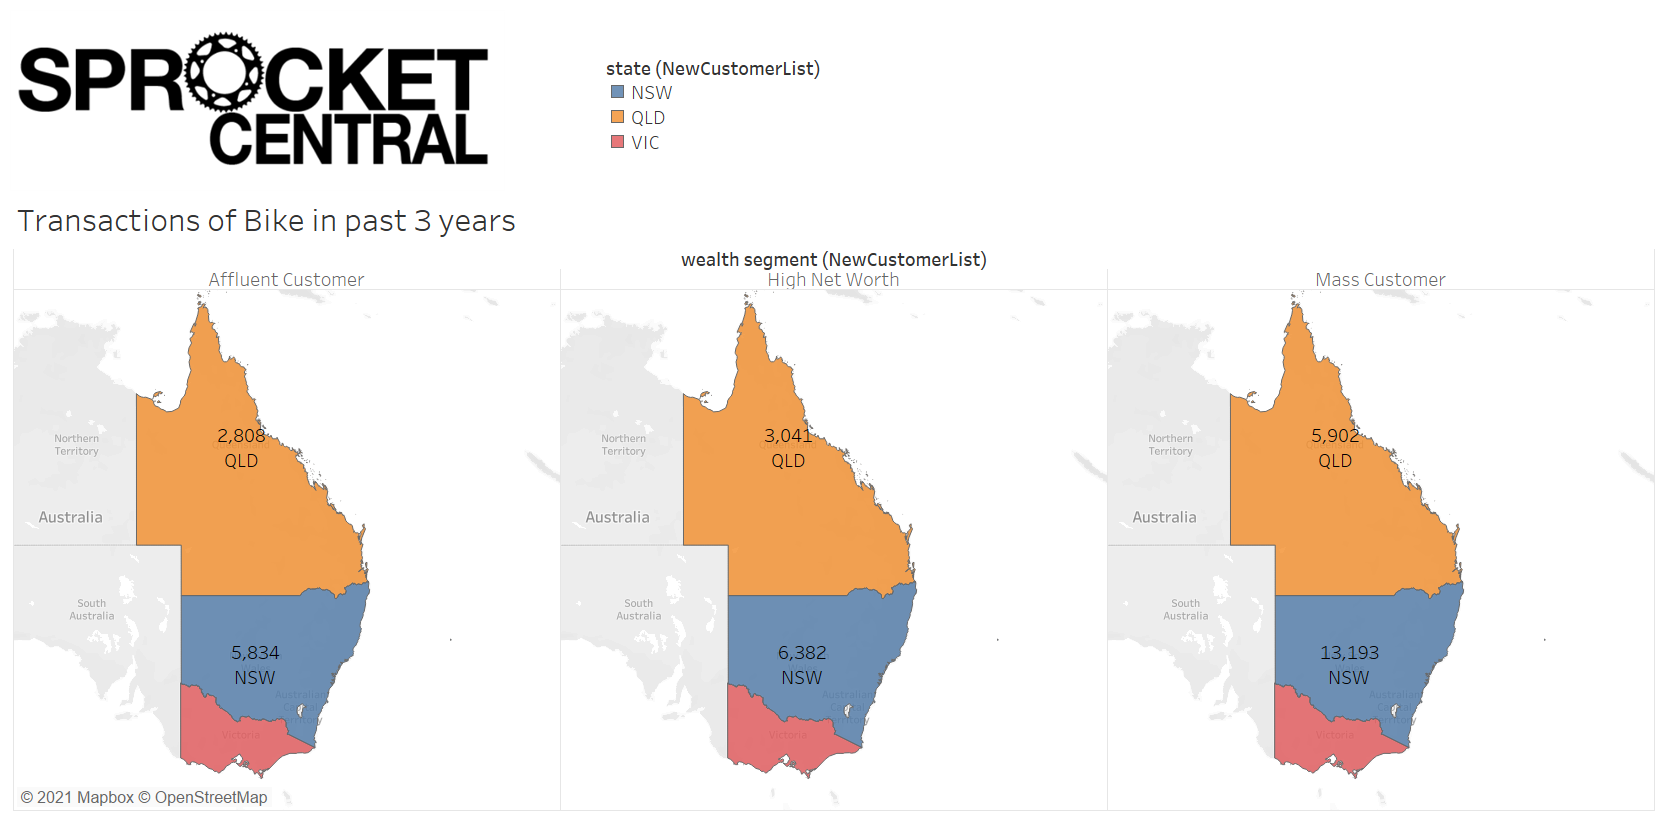

The page's visual inventory and layout, read from the dashboard file:
{"tool":"tableau","page":{"name":"Dashboard 2","canvas":[1000,1000],"units":"permille","ordinal":1},"visuals":[{"type":"image","param":"D:/College/Internship/Projects/KPMG/Capture.PNG","box":[6,12.5,481,221.2]},{"type":"legend","title":"Sheet 3","param":"[federated.12vq8vn1b4vt7y10dxqfv1u105mu].[none:state (NewCustomerList):nk]","box":[363.6,64.8,325.7,125.9]},{"type":"worksheet","title":"Sheet 3","mark":"Multipolygon","cols":["wealth_segment (NewCustomerList)"],"box":[7.8,234.7,986.8,756.7]}]}

Visuals, with their boxes on the dashboard's canvas, which has no fixed pixel size, in thousandths of its width and height (x1, y1, x2, y2). These are canvas units, not pixel positions in the 1664x818 screenshot, which may show the page scaled, cropped or inside an application window:
image: l=6, t=12, r=487, b=234
"Sheet 3" legend: l=364, t=65, r=689, b=191
"Sheet 3" worksheet (Multipolygon marks): l=8, t=235, r=995, b=991
